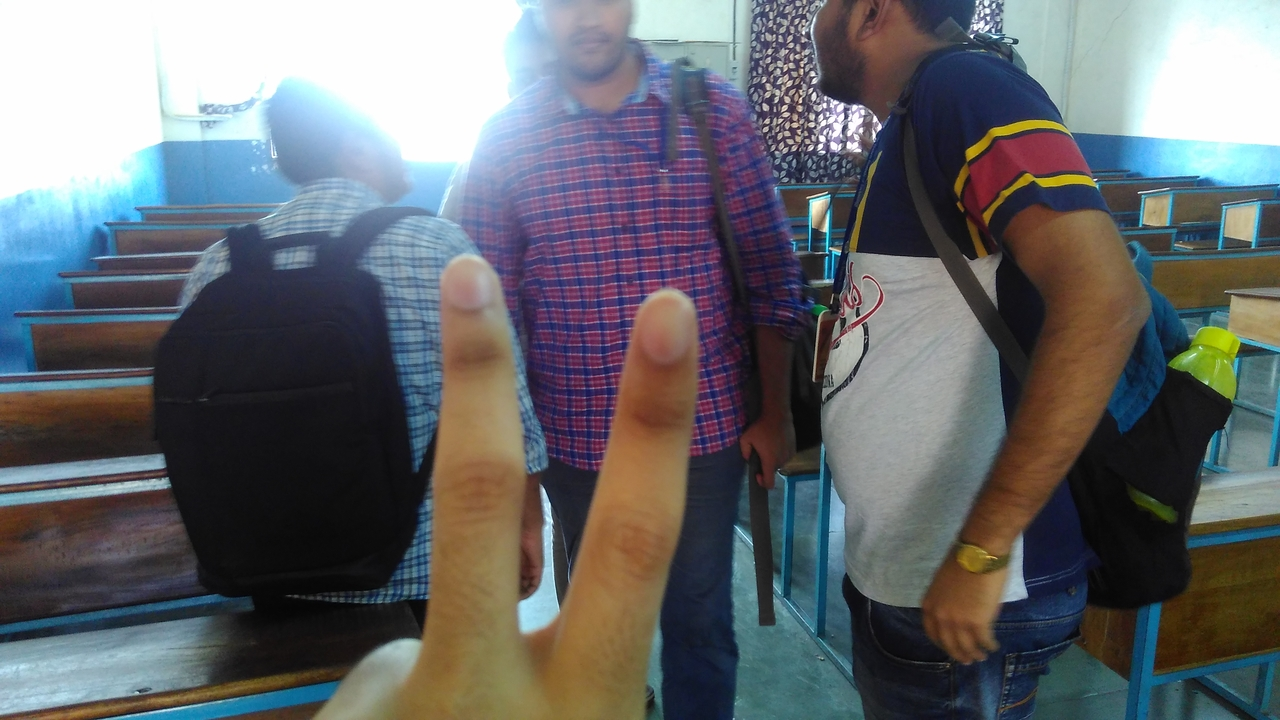fingertip: (626, 292, 698, 364), (417, 254, 503, 310)
